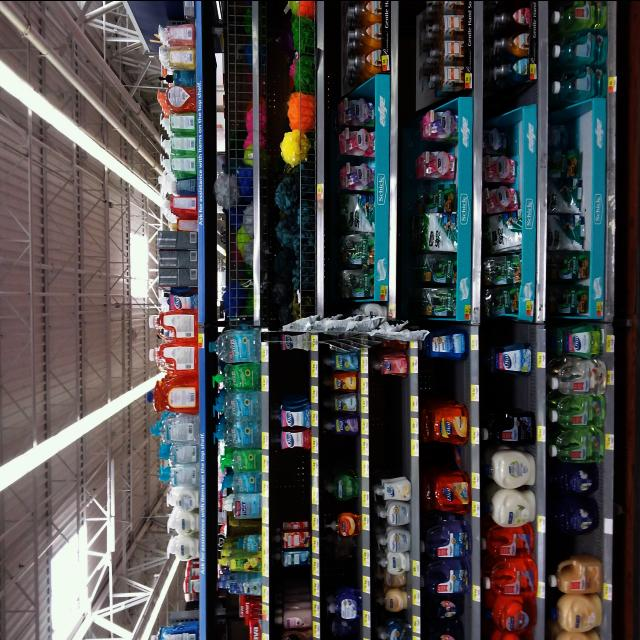empty_space: (375, 381, 405, 467), (280, 452, 312, 511), (427, 360, 465, 398), (492, 376, 532, 398), (322, 441, 354, 466), (279, 353, 305, 383)
